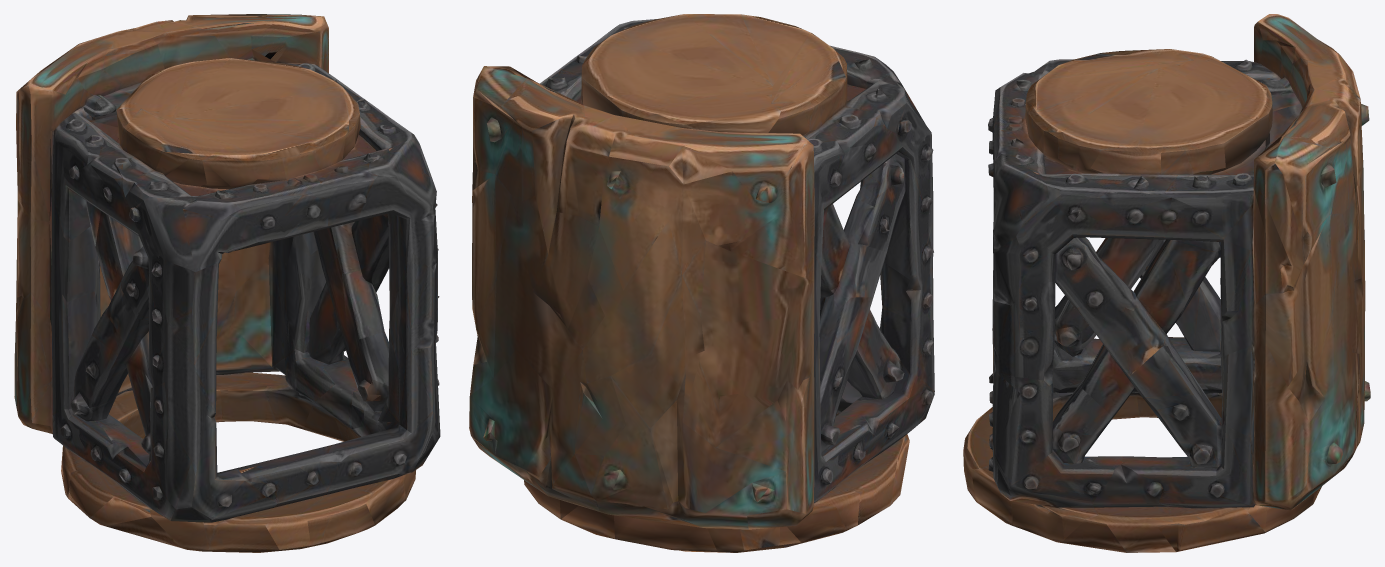
File: 06_shield_slab.glb
The picture shows the model from 3 angles, left to right: view 1: azimuth 30°, elevation 25°; view 2: azimuth 150°, elevation 25°; view 3: azimuth 270°, elevation 25°; orthographic projection. The views are drawn at different scales.
Parts seen in each view (by area): view 1: output_unwrapped; view 2: output_unwrapped; view 3: output_unwrapped.
Boxes of the visible parts, box(x1,y1,x2,y2) form: output_unwrapped: box(14, 14, 440, 552); output_unwrapped: box(469, 14, 934, 552); output_unwrapped: box(963, 14, 1370, 552).
Bounding box in the file's own units: 1.59 × 1.9 × 1.78.
Materials: 1 (1 with a texture image).
